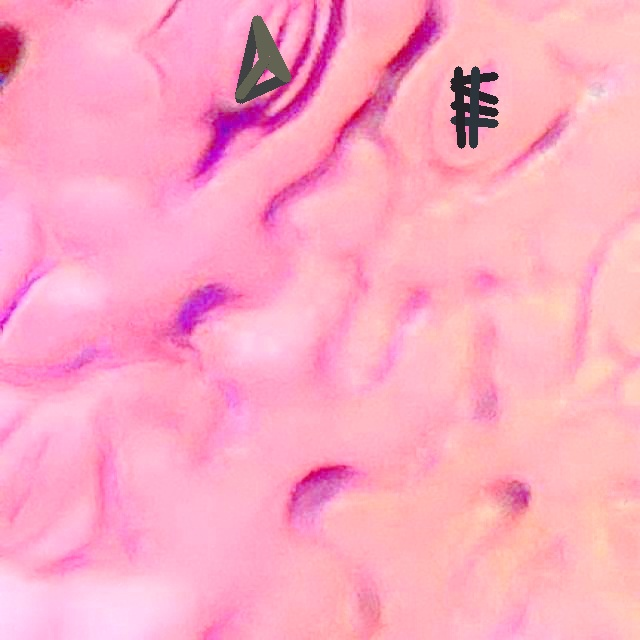open: (236, 16, 291, 103), (450, 66, 498, 147)
